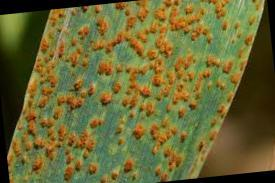Wheat: (53, 11, 193, 181), (13, 88, 50, 180), (197, 3, 250, 44), (197, 53, 238, 84)
